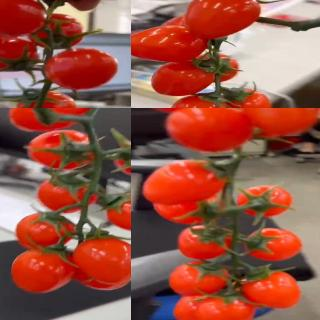tomato: (142, 159, 231, 204), (165, 108, 253, 152), (131, 23, 208, 66), (10, 249, 79, 295), (185, 0, 262, 40), (46, 48, 119, 90), (72, 234, 131, 284), (27, 131, 96, 173), (36, 175, 105, 215), (8, 108, 99, 136), (14, 212, 76, 251), (240, 270, 302, 309), (236, 228, 304, 263), (238, 108, 320, 137), (152, 61, 216, 97), (168, 262, 232, 298), (152, 190, 224, 222), (234, 184, 295, 219), (28, 12, 83, 50), (176, 224, 234, 260), (172, 291, 236, 320), (0, 36, 44, 73), (0, 0, 45, 36), (194, 295, 257, 320), (203, 51, 242, 82), (15, 90, 79, 108), (104, 192, 131, 232), (227, 89, 274, 108), (168, 94, 228, 108), (112, 134, 131, 176)
